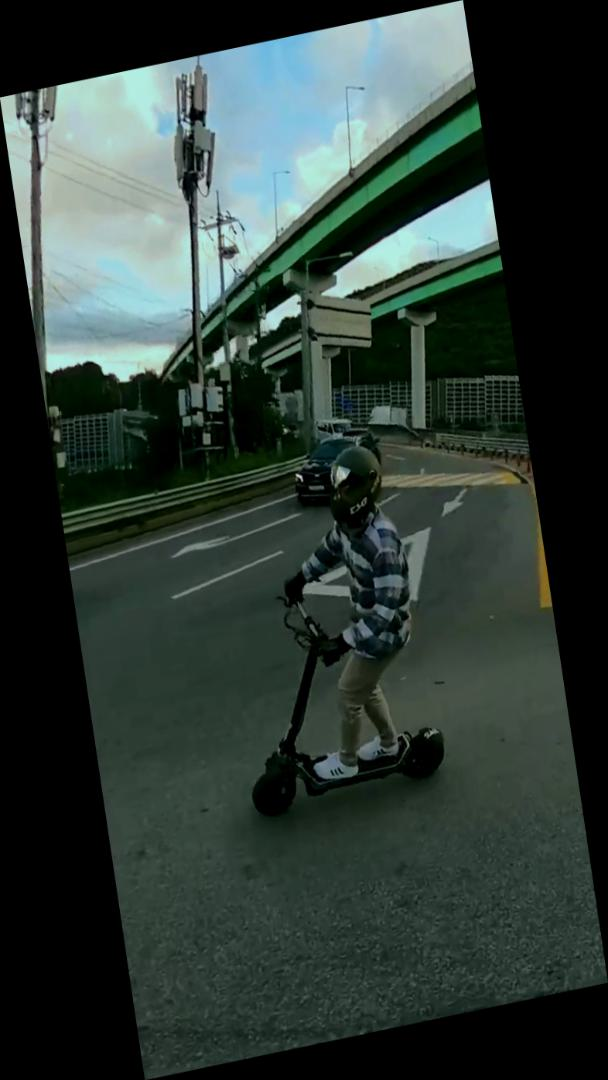helmet: (201, 435, 453, 822)
